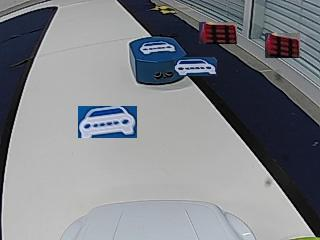safety: (140, 41, 175, 54)
